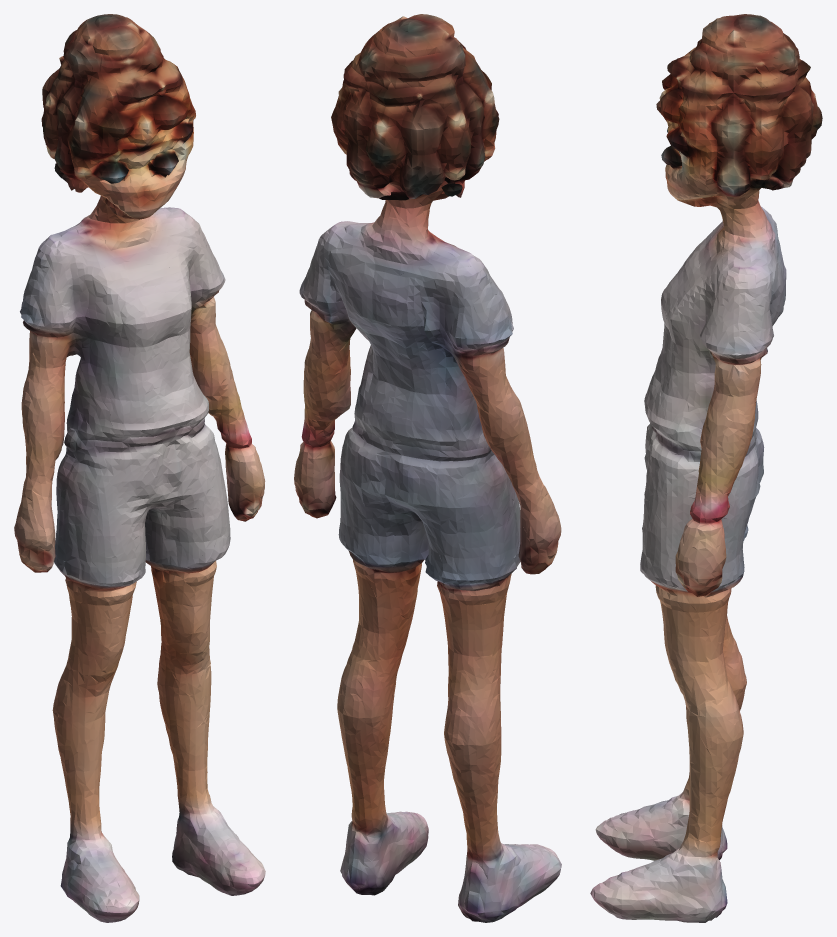
3 views of the same model, side by side, from view 1: azimuth 30°, elevation 25°; view 2: azimuth 150°, elevation 25°; view 3: azimuth 270°, elevation 25° (orthographic). The views are drawn at different scales.
Visible parts, largest first — view 1: geometry_0; view 2: geometry_0; view 3: geometry_0.
Part boxes in pixels (x1,y1,x2,y2): geometry_0: (14, 14, 265, 922); geometry_0: (294, 14, 561, 922); geometry_0: (590, 14, 822, 922).
Bounding box in the file's own units: 0.297 × 1 × 0.2428.
1 material, 1 textured.
